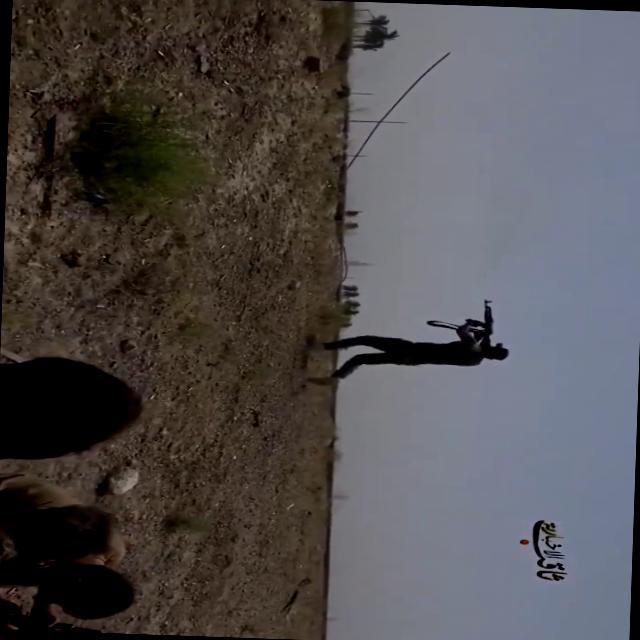long weapon: (461, 294, 504, 344)
